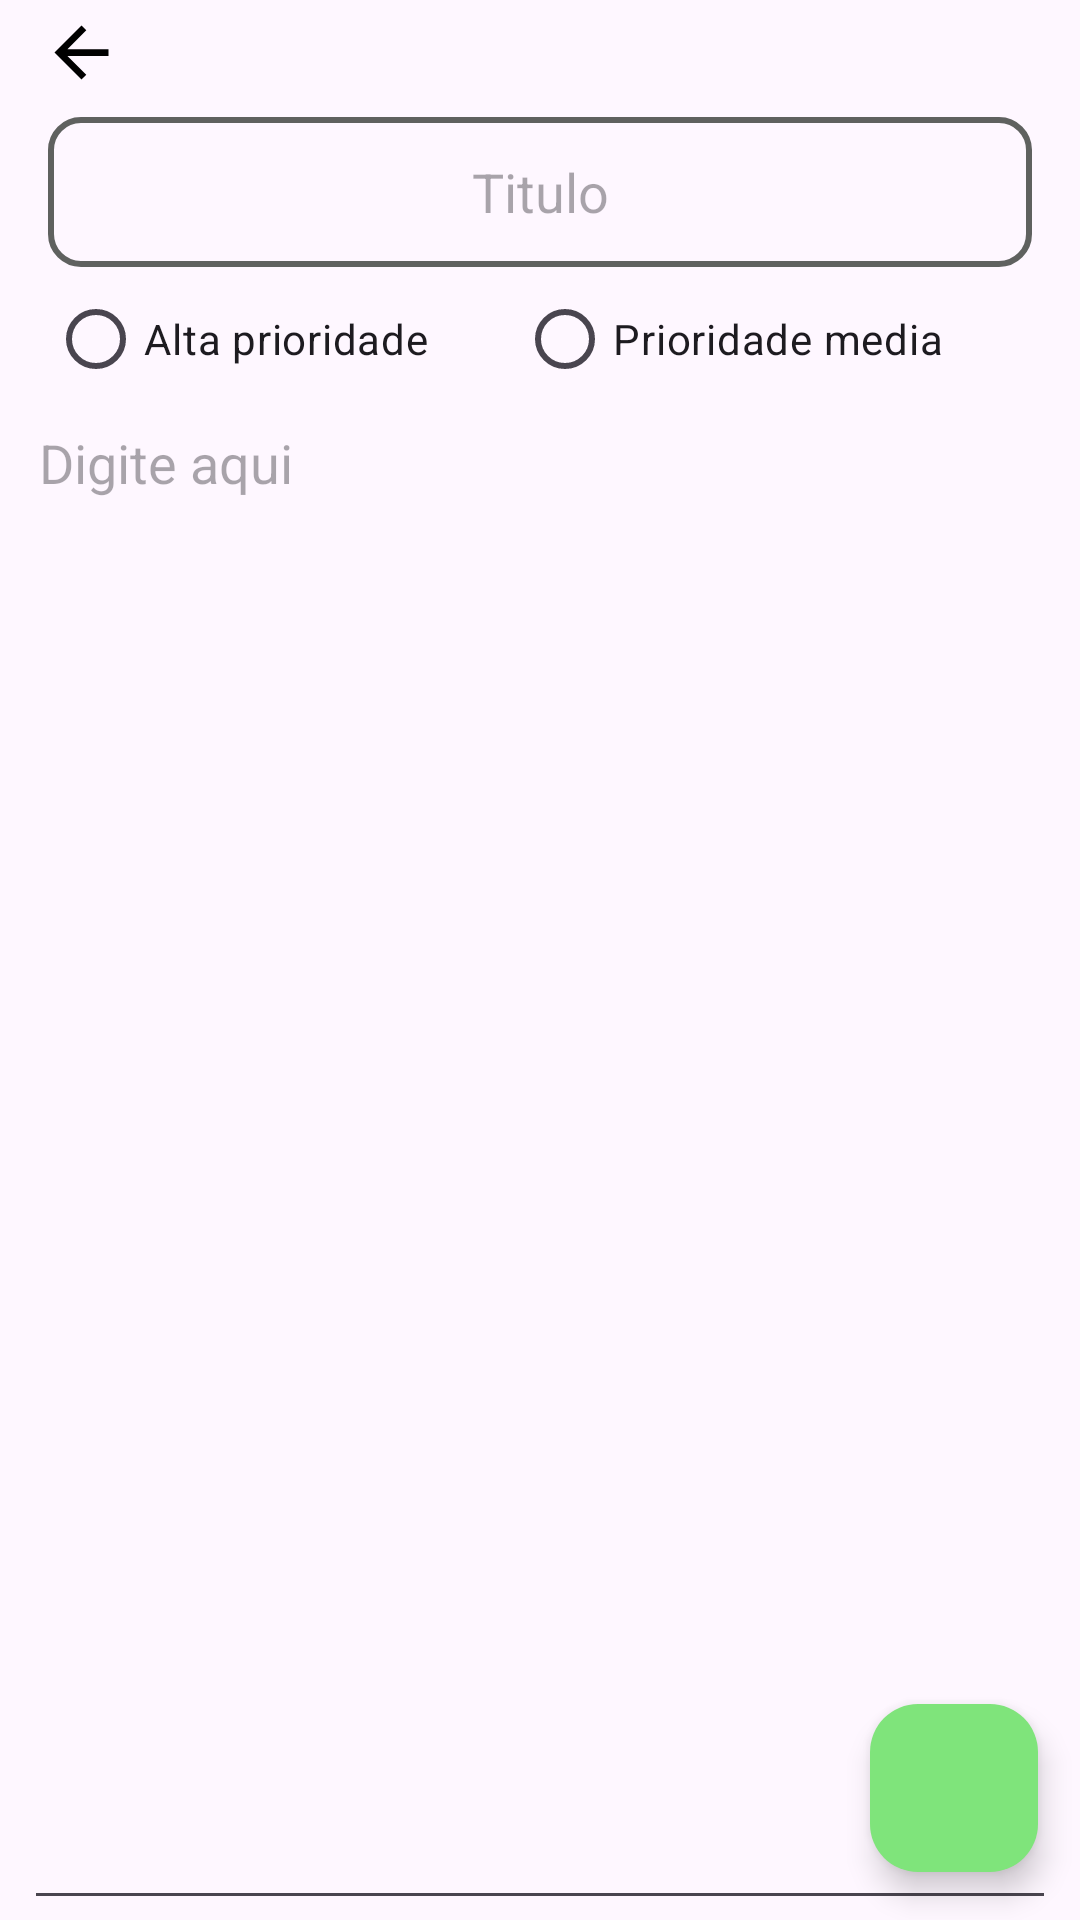

Named icons in this screenshot (1080 x 1920) and their centers, (x,y):
voltar: (81,52)
